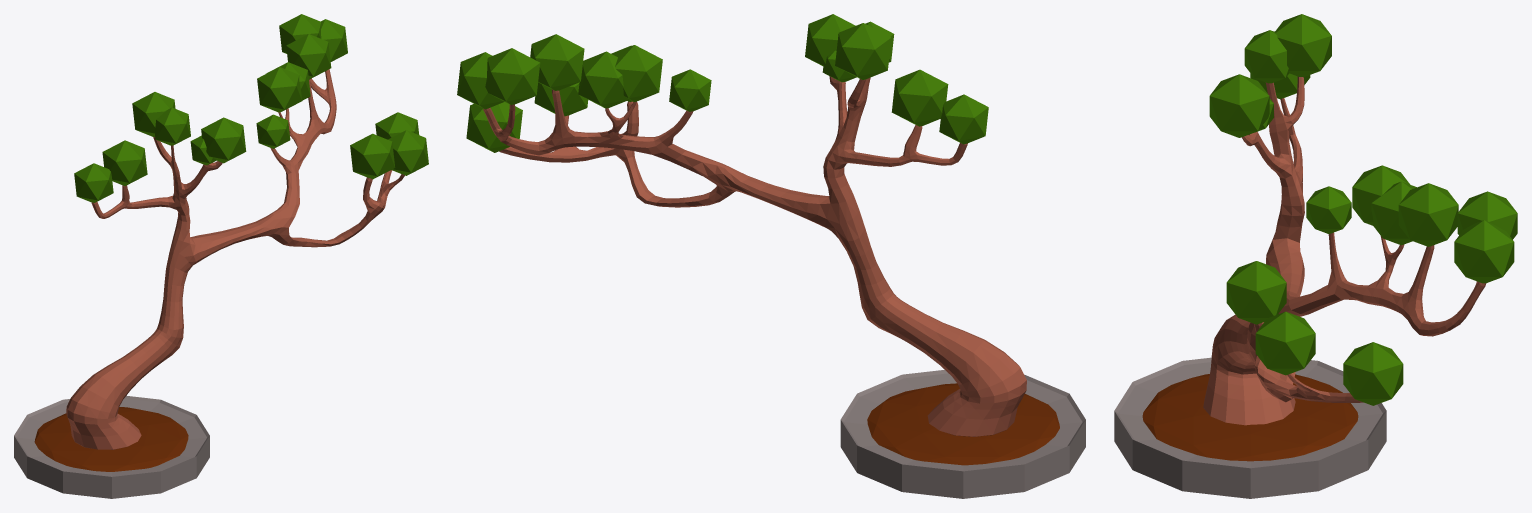
File: tree3.dae
3 views of the same model, side by side, from view 1: azimuth 30°, elevation 25°; view 2: azimuth 150°, elevation 25°; view 3: azimuth 270°, elevation 25° (orthographic). The views are drawn at different scales.
Parts seen in each view (by area): view 1: Cylinder_001, Cylinder, Icosphere_001, Icosphere_002, Icosphere_009, Icosphere_012, Icosphere_011, Icosphere_007, Icosphere_003, Icosphere_013, Icosphere_016, Icosphere_017 (+5 smaller); view 2: Cylinder_001, Cylinder, Icosphere_001, Icosphere_016, Icosphere_006, Icosphere_011, Icosphere_007, Icosphere_009, Icosphere_008, Icosphere_013, Icosphere_004, Icosphere_005 (+3 smaller); view 3: Cylinder_001, Cylinder, Icosphere_001, Icosphere_003, Icosphere_004, Icosphere_012, Icosphere_007, Icosphere_002, Icosphere_005, Icosphere_016, Icosphere_017, Icosphere_006 (+4 smaller).
Part boxes in pixels (bbox=[...]): Cylinder_001: bbox=[66, 69, 404, 449]; Cylinder: bbox=[14, 395, 209, 498]; Icosphere_001: bbox=[34, 407, 188, 471]; Icosphere_002: bbox=[350, 133, 395, 179]; Icosphere_009: bbox=[257, 67, 301, 112]; Icosphere_012: bbox=[201, 117, 246, 163]; Icosphere_011: bbox=[102, 140, 147, 185]; Icosphere_007: bbox=[286, 34, 331, 79]; Icosphere_003: bbox=[388, 130, 428, 175]; Icosphere_013: bbox=[74, 163, 113, 202]; Icosphere_016: bbox=[132, 92, 175, 136]; Icosphere_017: bbox=[154, 107, 190, 145]; Cylinder_001: bbox=[483, 76, 1026, 436]; Cylinder: bbox=[840, 369, 1085, 498]; Icosphere_001: bbox=[867, 383, 1059, 465]; Icosphere_016: bbox=[835, 23, 891, 79]; Icosphere_006: bbox=[485, 48, 540, 104]; Icosphere_011: bbox=[891, 69, 948, 126]; Icosphere_007: bbox=[530, 34, 584, 90]; Icosphere_009: bbox=[612, 45, 662, 102]; Icosphere_008: bbox=[578, 51, 629, 108]; Icosphere_013: bbox=[939, 94, 988, 144]; Icosphere_004: bbox=[466, 102, 522, 152]; Icosphere_005: bbox=[457, 52, 504, 109]; Cylinder_001: bbox=[1203, 76, 1486, 425]; Cylinder: bbox=[1114, 357, 1386, 498]; Icosphere_001: bbox=[1142, 374, 1358, 461]; Icosphere_003: bbox=[1255, 311, 1315, 375]; Icosphere_004: bbox=[1343, 342, 1403, 405]; Icosphere_012: bbox=[1209, 74, 1269, 137]; Icosphere_007: bbox=[1398, 183, 1458, 246]; Icosphere_002: bbox=[1226, 261, 1286, 324]; Icosphere_005: bbox=[1454, 220, 1514, 283]; Icosphere_016: bbox=[1275, 14, 1331, 77]; Icosphere_017: bbox=[1244, 30, 1289, 83]; Icosphere_006: bbox=[1457, 191, 1517, 239].
Bounding box in the file's own units: 5.12 × 2.96 × 3.8.
